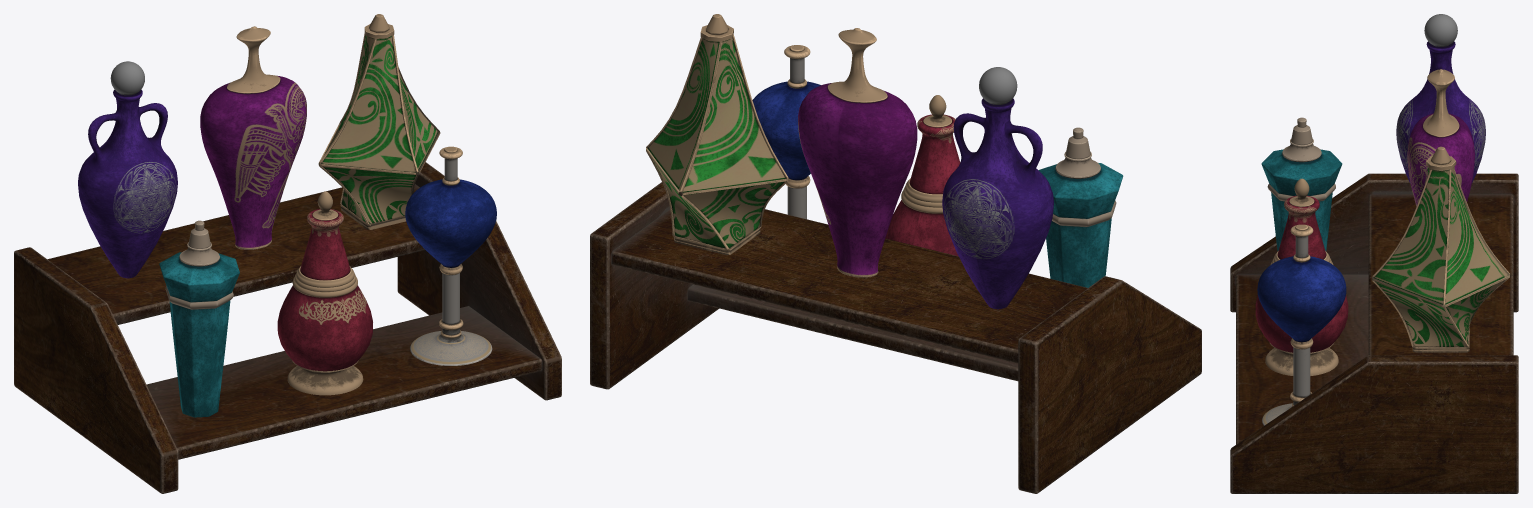
Rendered from decorative_bottles.glb.
The picture shows the model from 3 angles, left to right: view 1: azimuth 30°, elevation 25°; view 2: azimuth 150°, elevation 25°; view 3: azimuth 270°, elevation 25°; orthographic projection. The views are drawn at different scales.
Parts seen in each view (by area): view 1: Shelf01, Potion06, Potion04, Potion07, Potion01, Potion02, Potion03; view 2: Shelf01, Potion06, Potion04, Potion07, Potion03, Potion01, Potion02; view 3: Shelf01, Potion06, Potion02, Potion01, Potion03, Potion07, Potion04.
Part boxes in pixels (x1,y1,x2,y2): Shelf01: (14, 162, 561, 493); Potion06: (318, 14, 440, 229); Potion04: (200, 26, 306, 249); Potion07: (78, 61, 177, 278); Potion01: (277, 191, 372, 395); Potion02: (405, 146, 496, 365); Potion03: (159, 220, 239, 417); Shelf01: (590, 182, 1201, 493); Potion06: (646, 14, 788, 255); Potion04: (798, 28, 917, 277); Potion07: (942, 67, 1053, 309); Potion03: (1038, 127, 1123, 287); Potion01: (885, 95, 960, 256); Potion02: (752, 45, 820, 219); Shelf01: (1230, 173, 1518, 493); Potion06: (1372, 146, 1510, 352); Potion02: (1257, 224, 1346, 425); Potion01: (1255, 178, 1348, 375); Potion03: (1261, 117, 1342, 251); Potion07: (1396, 14, 1485, 183); Potion04: (1407, 69, 1474, 206).
Bounding box in the file's own units: 0.4869 × 0.3942 × 0.3125.
13 materials, 13 textured.
